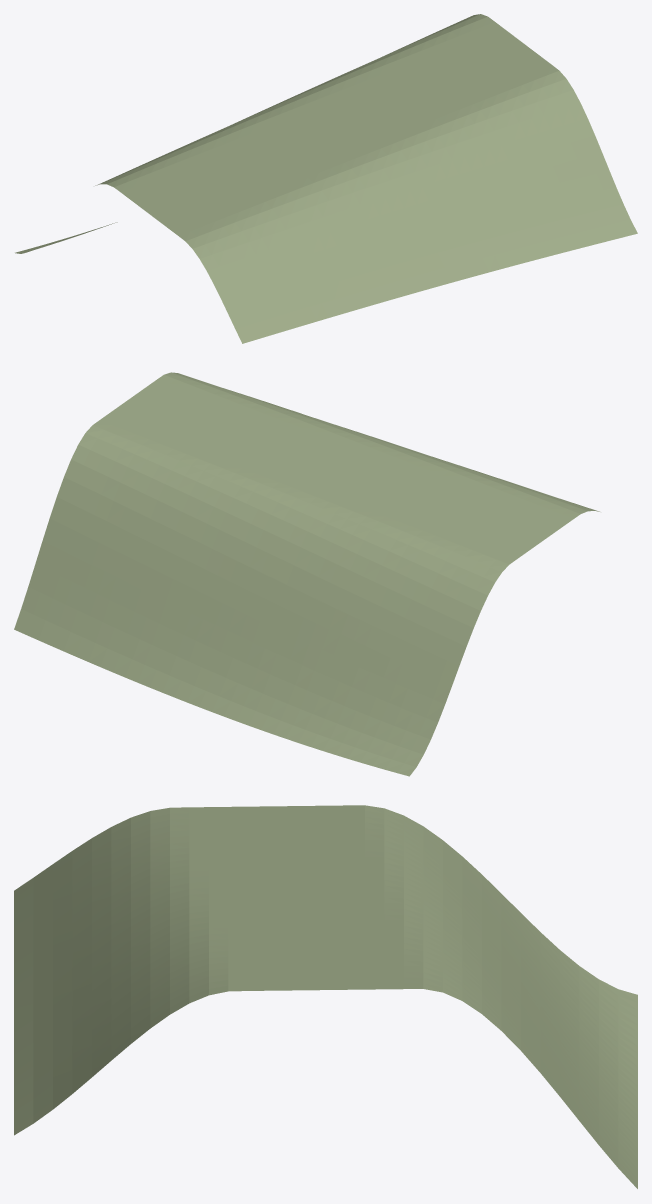
File: alpine-4-2.glb
The picture shows the model from 3 angles, top to bottom: view 1: azimuth 30°, elevation 25°; view 2: azimuth 150°, elevation 25°; view 3: azimuth 270°, elevation 25°; orthographic projection. The views are drawn at different scales.
Parts seen in each view (by area): view 1: alpine-4-2; view 2: alpine-4-2; view 3: alpine-4-2.
Part boxes in pixels (<box>): alpine-4-2: <box>15,14,637,343</box>; alpine-4-2: <box>14,372,599,776</box>; alpine-4-2: <box>14,805,637,1188</box>.
Bounding box in the file's own units: 256 × 122 × 256.
